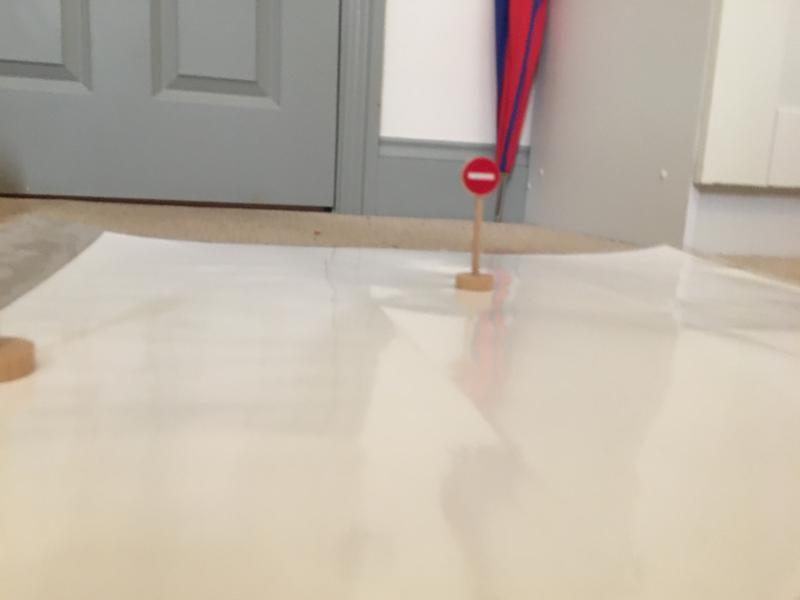Traffic_Sign_No_Entry: (463, 156, 499, 195)
